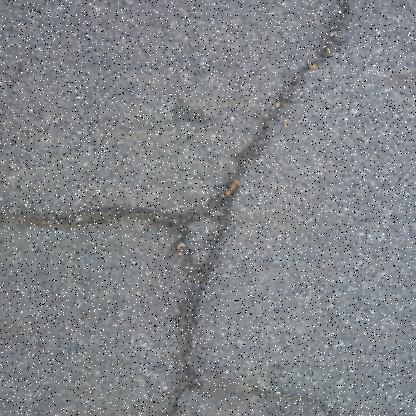Cracks: (158, 0, 378, 415), (0, 193, 238, 279)
